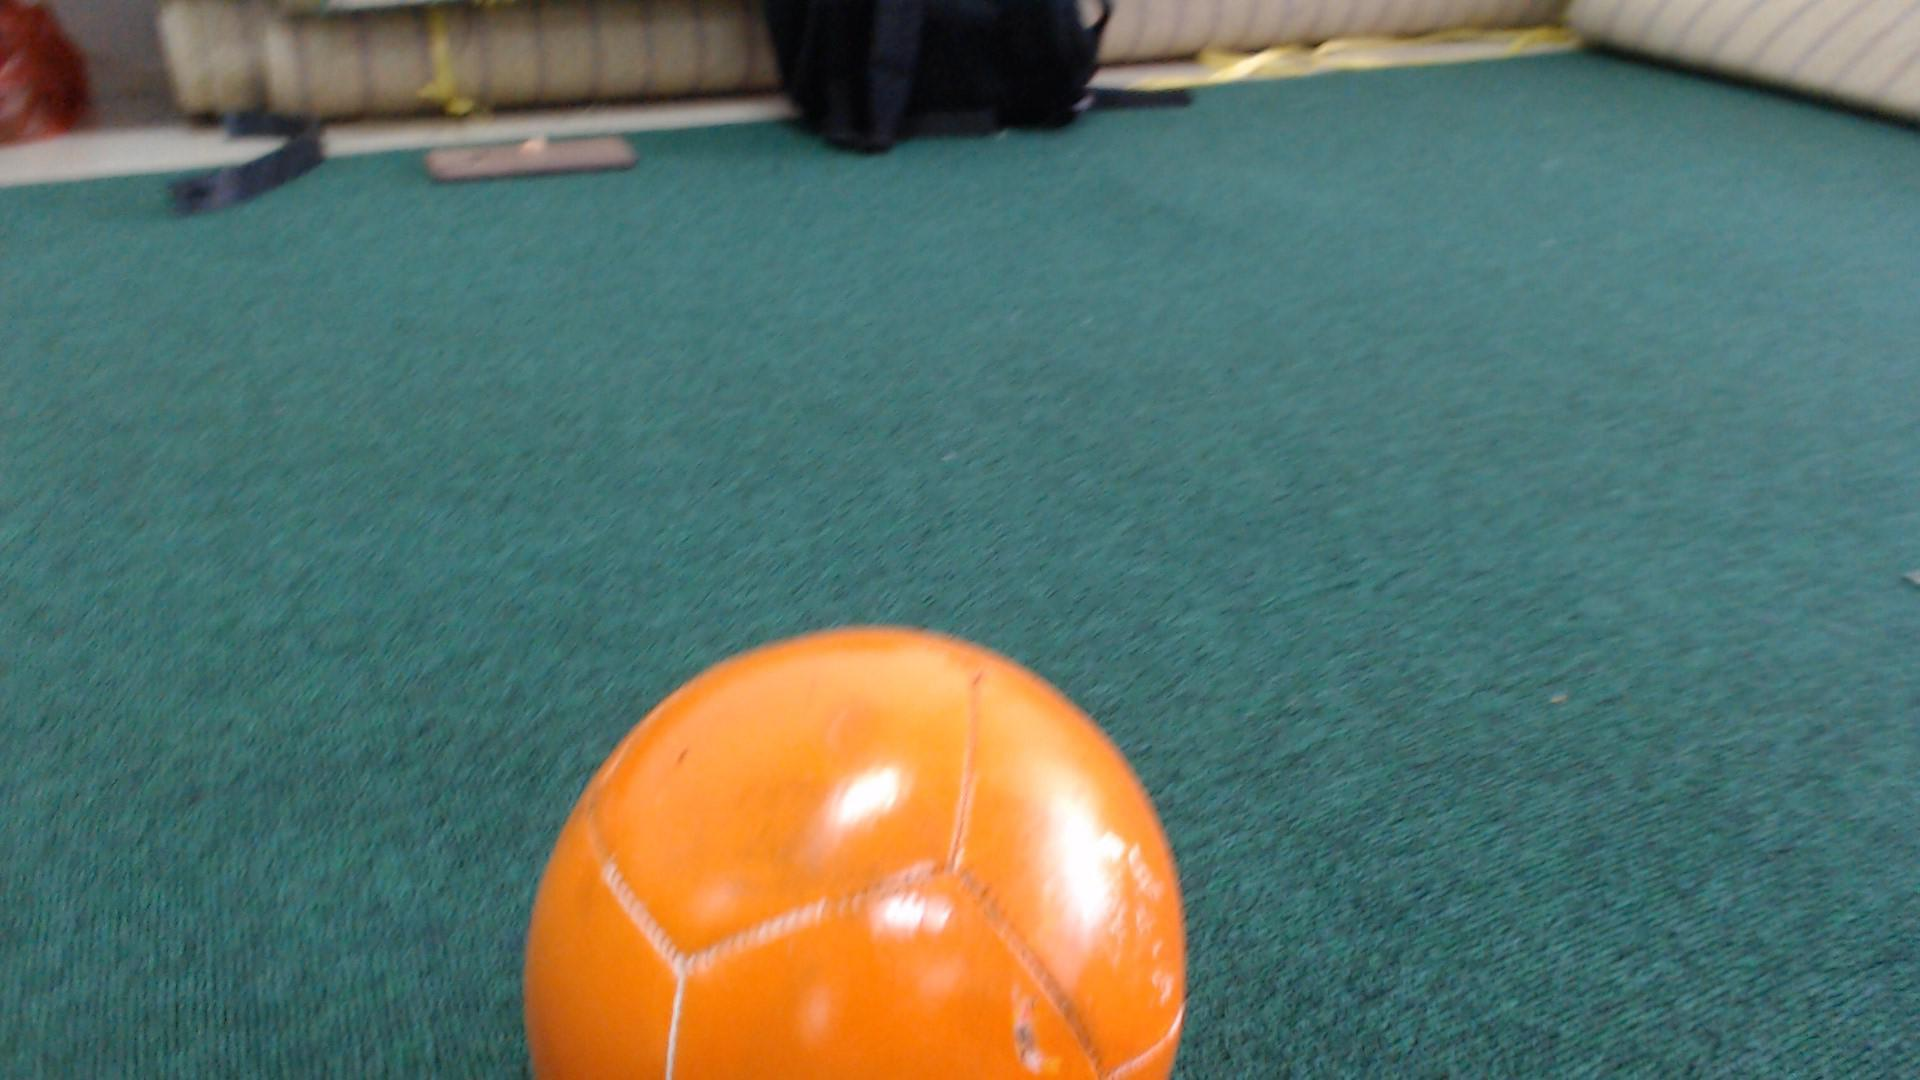bola: (495, 579, 1236, 1080)
